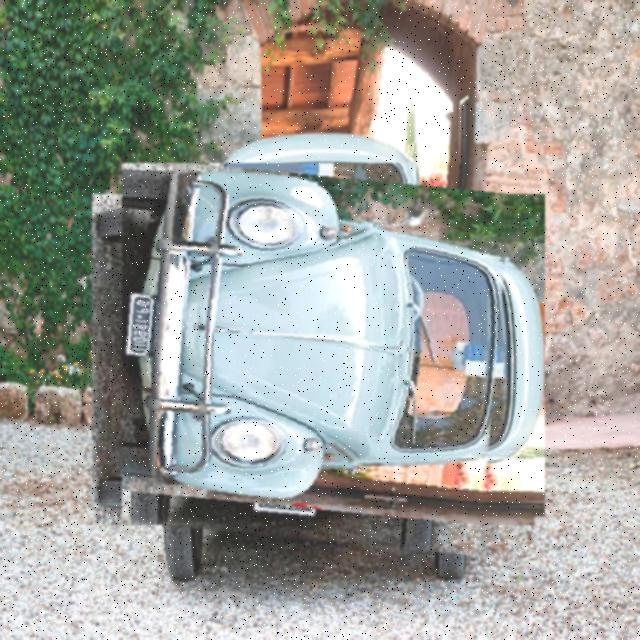car: (123, 164, 515, 557)
